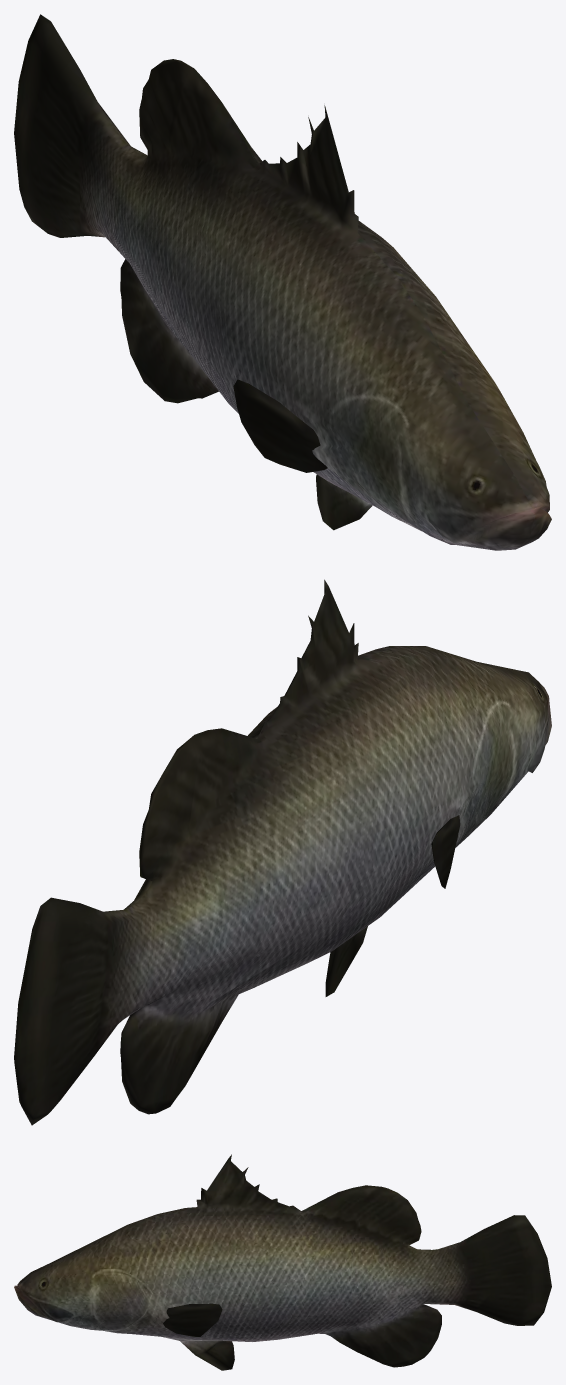
File: glimmerfin.glb
3 renders of one model, top to bottom at view 1: azimuth 30°, elevation 25°; view 2: azimuth 150°, elevation 25°; view 3: azimuth 270°, elevation 25°, orthographic. The views are drawn at different scales.
Parts seen in each view (by area): view 1: BarramundiFish; view 2: BarramundiFish; view 3: BarramundiFish.
Part boxes in pixels (left/top/right/bottom): BarramundiFish: left=14, top=14, right=551, bottom=550; BarramundiFish: left=14, top=579, right=551, bottom=1125; BarramundiFish: left=14, top=1154, right=551, bottom=1370.
Bounding box in the file's own units: 0.1426 × 0.2859 × 0.6431.
Materials: 1 (1 with a texture image).
